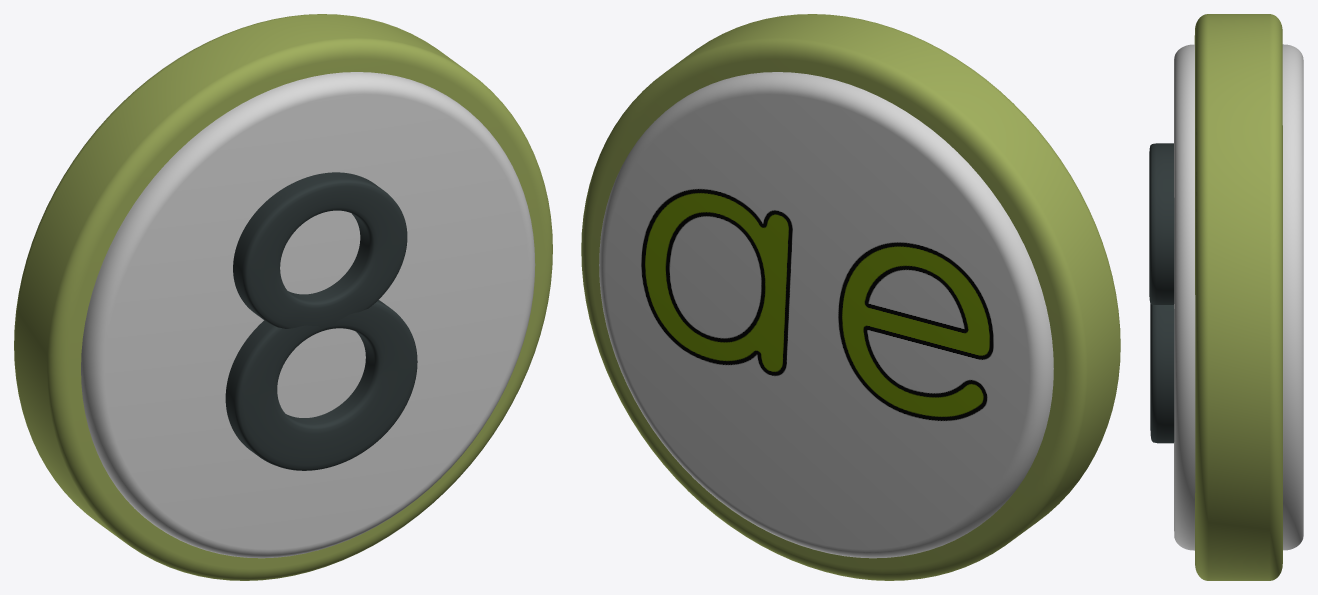
Rendered from eight.gltf.
3 renders of one model, left to right at view 1: azimuth 30°, elevation 25°; view 2: azimuth 150°, elevation 25°; view 3: azimuth 270°, elevation 25°, orthographic. The views are drawn at different scales.
Parts seen in each view (by area): view 1: Cylinder_2, Cylinder.001, Cylinder.000, Cylinder; view 2: Cylinder_2, Cylinder.001; view 3: Cylinder.001, Cylinder_2, Cylinder, Cylinder.000.
Boxes of the visible parts, bbox=[...] form: Cylinder_2: bbox=[81, 72, 535, 558]; Cylinder.001: bbox=[14, 14, 552, 580]; Cylinder.000: bbox=[225, 300, 417, 470]; Cylinder: bbox=[233, 172, 407, 329]; Cylinder_2: bbox=[599, 72, 1053, 558]; Cylinder.001: bbox=[581, 14, 1120, 580]; Cylinder.001: bbox=[1194, 14, 1282, 580]; Cylinder_2: bbox=[1174, 44, 1303, 550]; Cylinder: bbox=[1149, 143, 1174, 304]; Cylinder.000: bbox=[1150, 304, 1174, 443].
Size of the model in its own units: 2.56 by 2.56 by 0.697.
3 materials, 1 textured.
